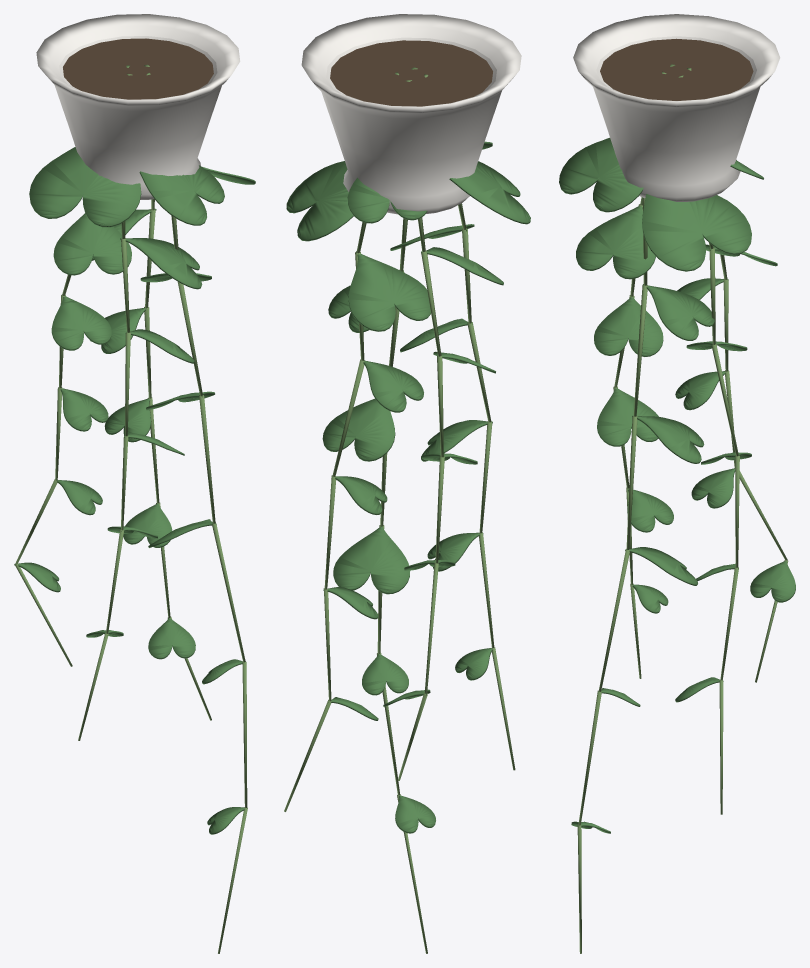
The model's file is PlantHang.fbx.
The picture shows the model from 3 angles, left to right: view 1: azimuth 30°, elevation 25°; view 2: azimuth 150°, elevation 25°; view 3: azimuth 270°, elevation 25°; orthographic projection. The views are drawn at different scales.
Visible parts, largest first — view 1: HangFoliage, HangPot, HangStems, HangSoil; view 2: HangFoliage, HangPot, HangStems, HangSoil; view 3: HangFoliage, HangPot, HangStems, HangSoil.
Boxes of the visible parts, x1,y1,x2,y2 form: HangFoliage: [14, 147, 255, 834]; HangPot: [36, 14, 240, 199]; HangStems: [15, 64, 247, 953]; HangSoil: [63, 38, 213, 99]; HangFoliage: [286, 141, 530, 833]; HangPot: [301, 14, 521, 214]; HangStems: [284, 67, 515, 953]; HangSoil: [330, 40, 492, 106]; HangFoliage: [559, 137, 795, 833]; HangPot: [573, 14, 780, 201]; HangStems: [577, 64, 788, 953]; HangSoil: [600, 38, 753, 100].
Bounding box in the file's own units: 103 × 391 × 95.52.
